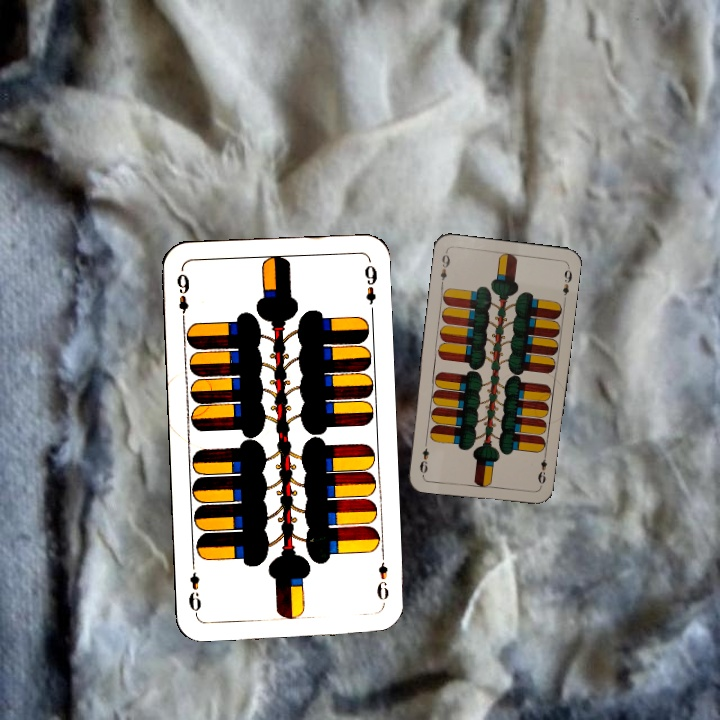E9: (373, 549, 392, 608), (172, 269, 192, 325), (436, 248, 453, 288), (534, 450, 549, 486)
